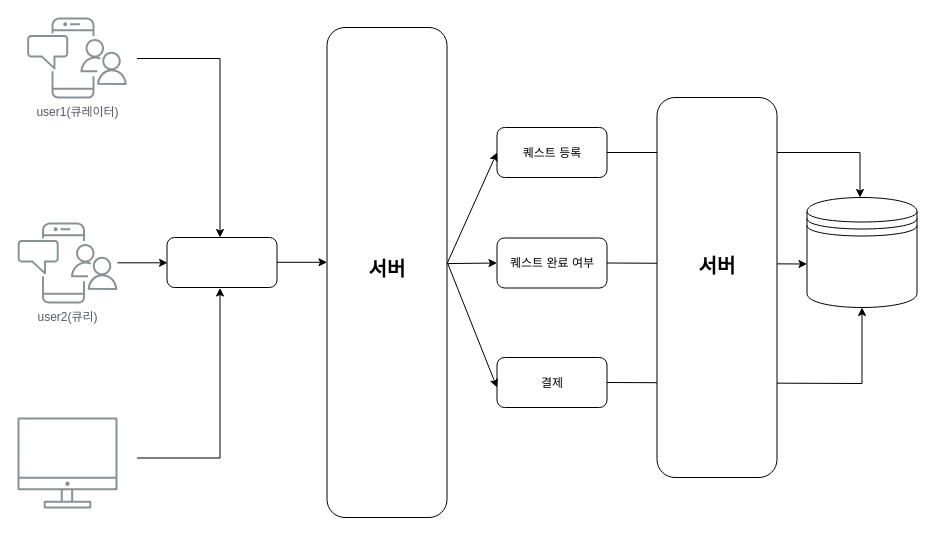
Image size: 934x546. Some labels were removed from this diagram. The shapes that lost their labels are listed below. From the top down, each one's centre as x and y in pixels, then its label:
At (221,262): "로그인/회원가입".
At (861,252): "DB".
At (67,462): "admin(관리자)".
